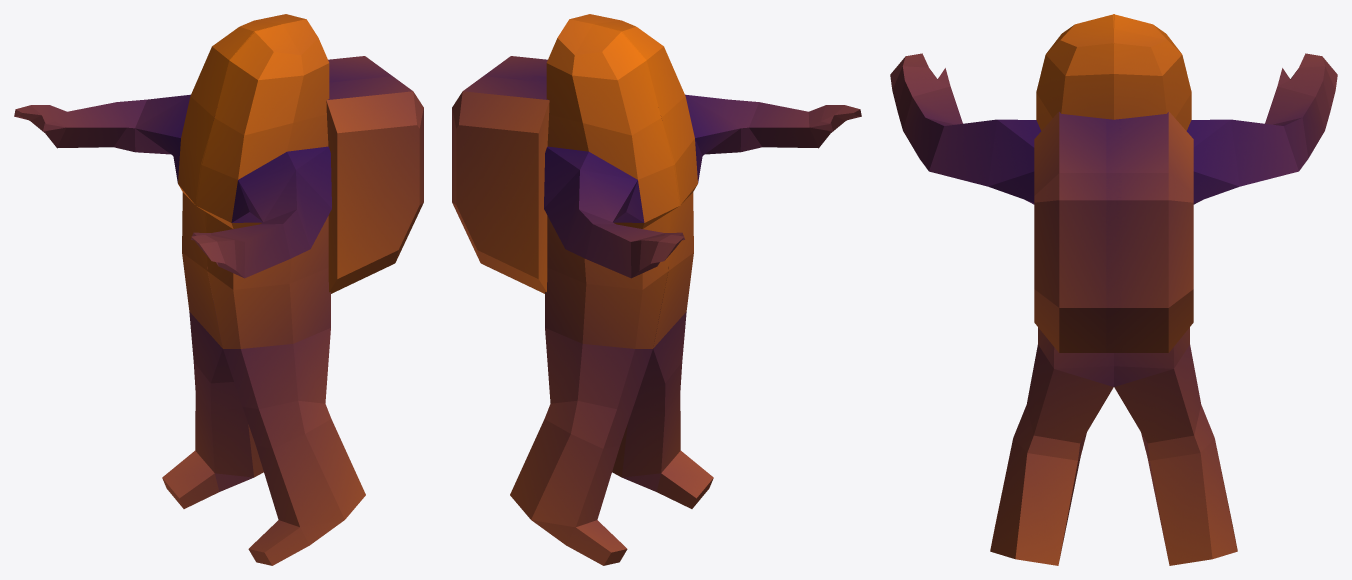
The model's file is spaceman.fbx.
3 renders of one model, left to right at view 1: azimuth 30°, elevation 25°; view 2: azimuth 150°, elevation 25°; view 3: azimuth 270°, elevation 25°, orthographic. The views are drawn at different scales.
Visible parts, largest first — view 1: Cube; view 2: Cube; view 3: Cube.
Boxes of the visible parts, left/top/right/bottom form: Cube: left=14, top=14, right=423, bottom=565; Cube: left=452, top=14, right=861, bottom=565; Cube: left=890, top=14, right=1337, bottom=565.
Size of the model in its own units: 504 by 816 by 589.
Materials: 1 (1 with a texture image).
